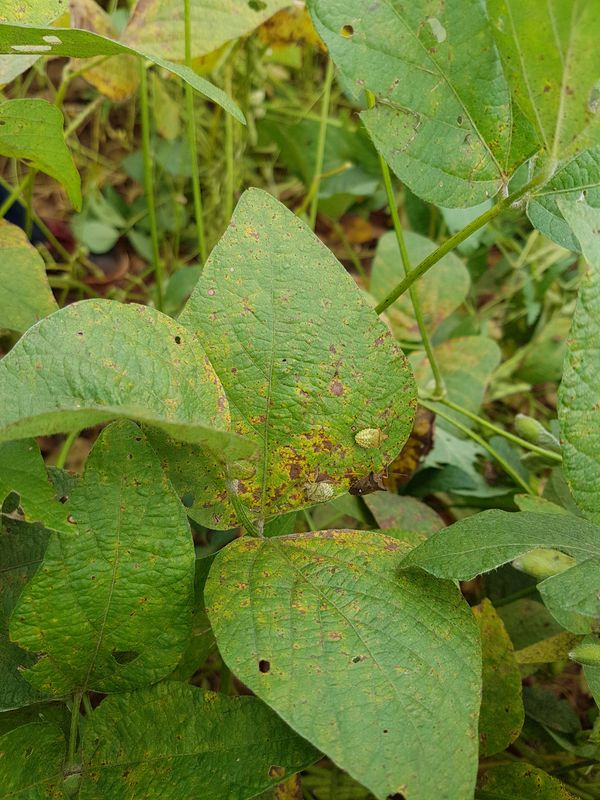Euschistus_heros_ninfa: (350, 423, 394, 454), (299, 477, 340, 507)
